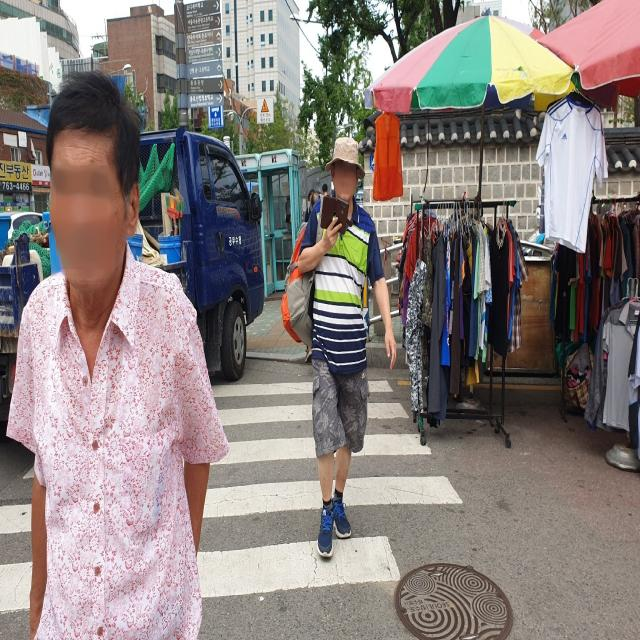횡단보도: (1, 376, 467, 618)
